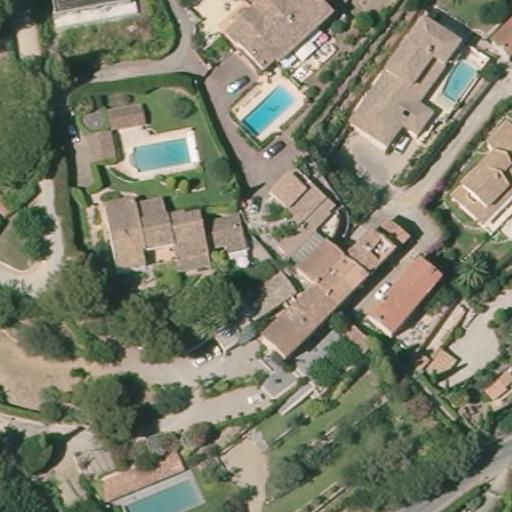pool: (103, 468, 203, 511), (236, 80, 301, 135), (123, 137, 198, 176), (441, 59, 480, 103)
